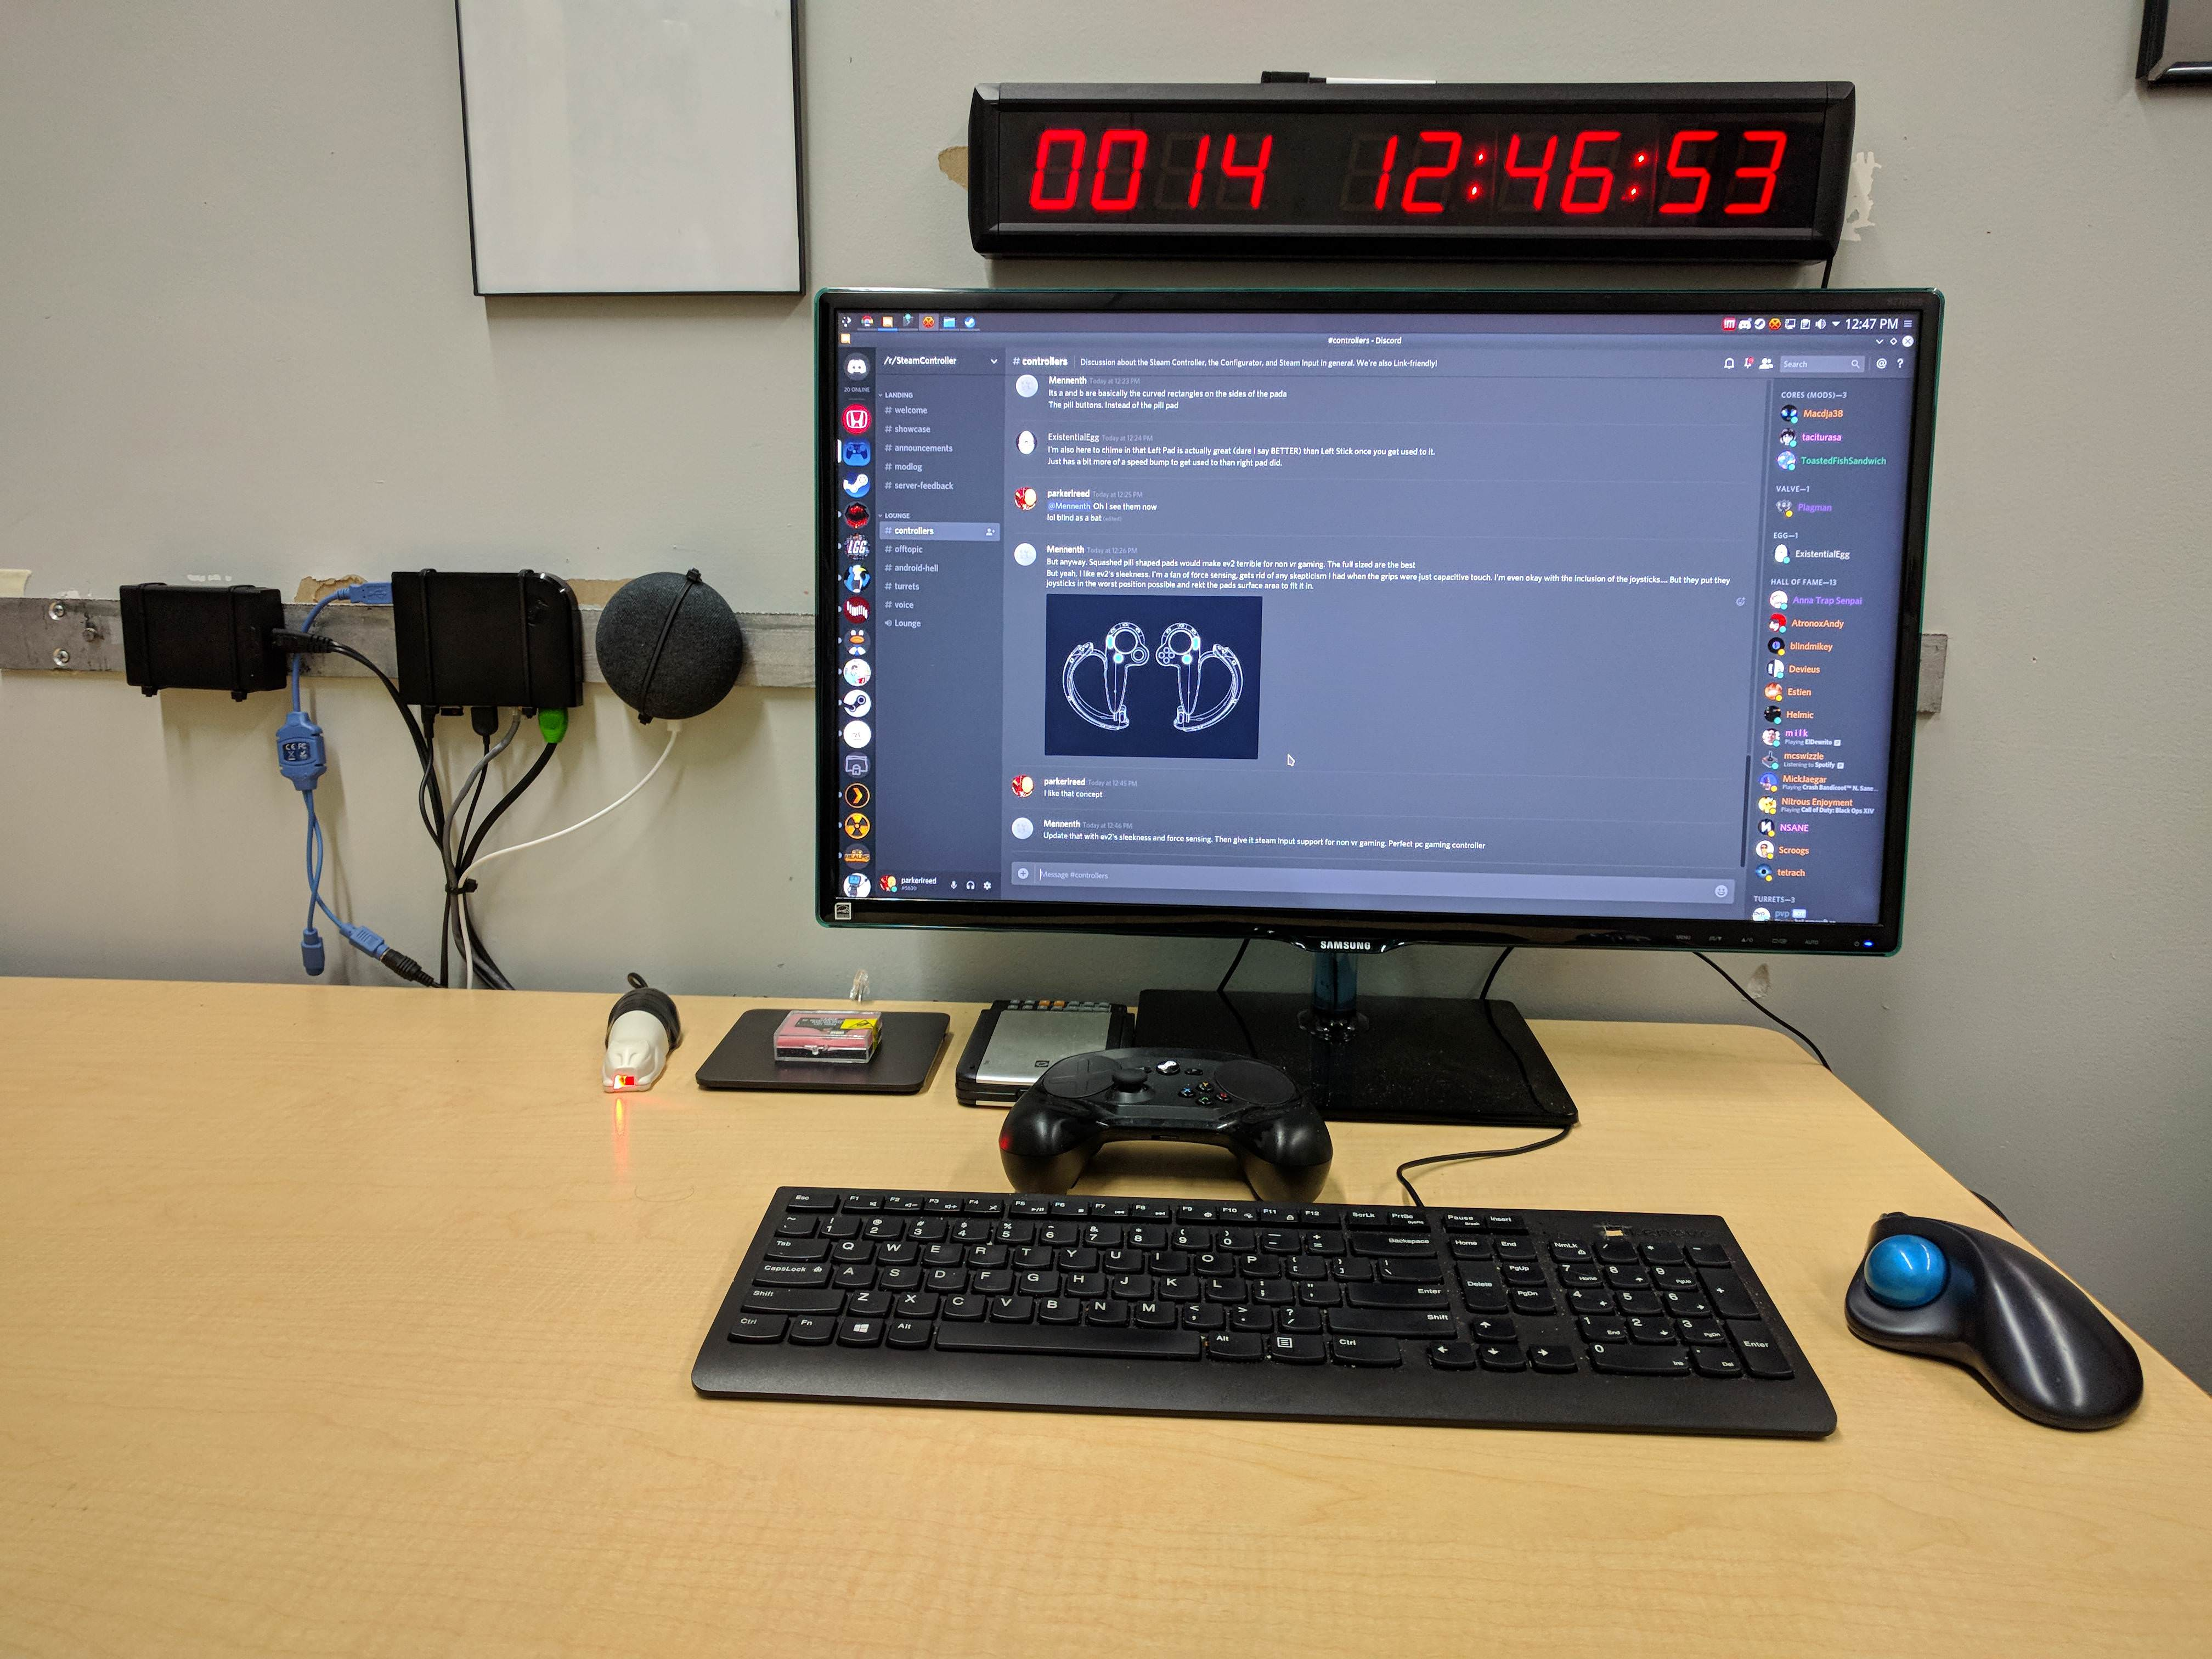Decoration (Clock): (960, 80, 1858, 268)
Desk (Generic): (0, 971, 2209, 1656)
Gaming Controller: (996, 1049, 1336, 1215)
IoT Devices (Raspberry, Arduino, etc): (589, 565, 742, 735)
Keyboard (Generic): (679, 1183, 1846, 1441)
Monitor (Landscape): (810, 284, 1947, 1134)
Mouse (Ergonomic): (1846, 1199, 2148, 1436)
